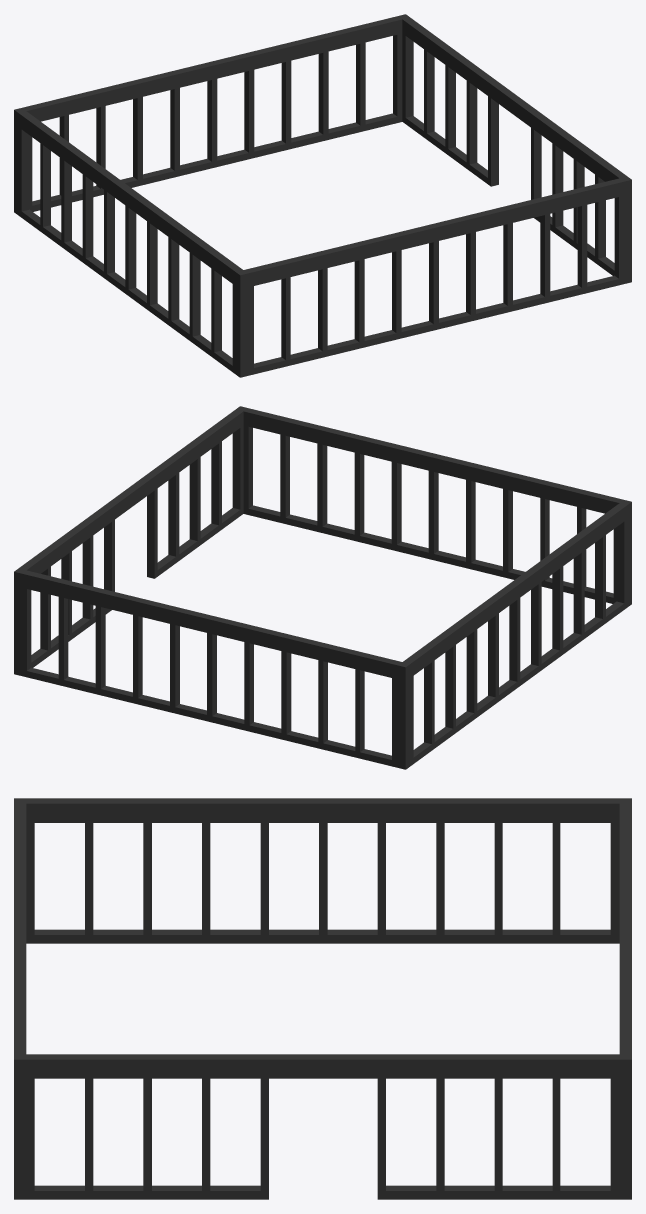
The model's file is OfficeEntrance.glb.
3 renders of one model, top to bottom at view 1: azimuth 30°, elevation 25°; view 2: azimuth 150°, elevation 25°; view 3: azimuth 270°, elevation 25°, orthographic. The views are drawn at different scales.
Parts seen in each view (by area): view 1: Entrance-col; view 2: Entrance-col; view 3: Entrance-col.
Part boxes in pixels (<box>): Entrance-col: <box>14,14,631,377</box>; Entrance-col: <box>14,406,631,769</box>; Entrance-col: <box>14,798,631,1199</box>.
Size of the model in its own units: 64 by 16 by 64.
Materials: 1 (1 with a texture image).
